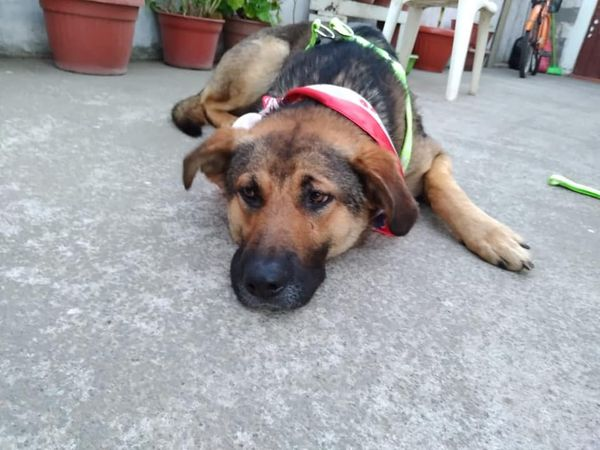dog: (168, 11, 545, 336)
